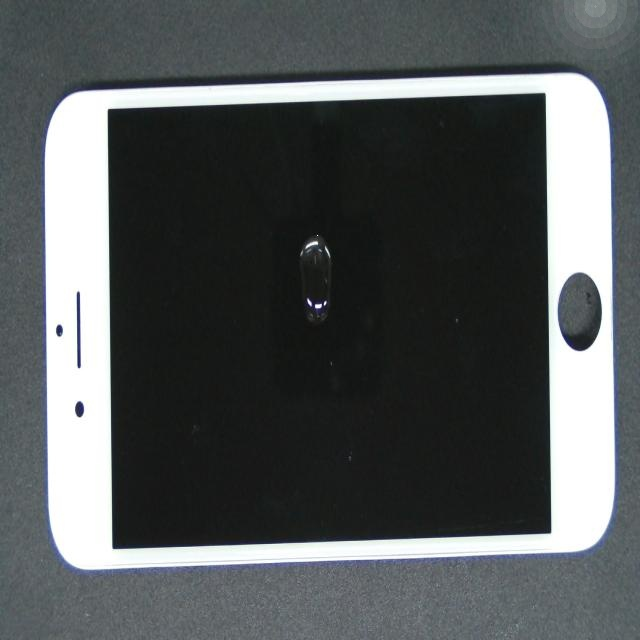oil: (138, 83, 449, 403)
